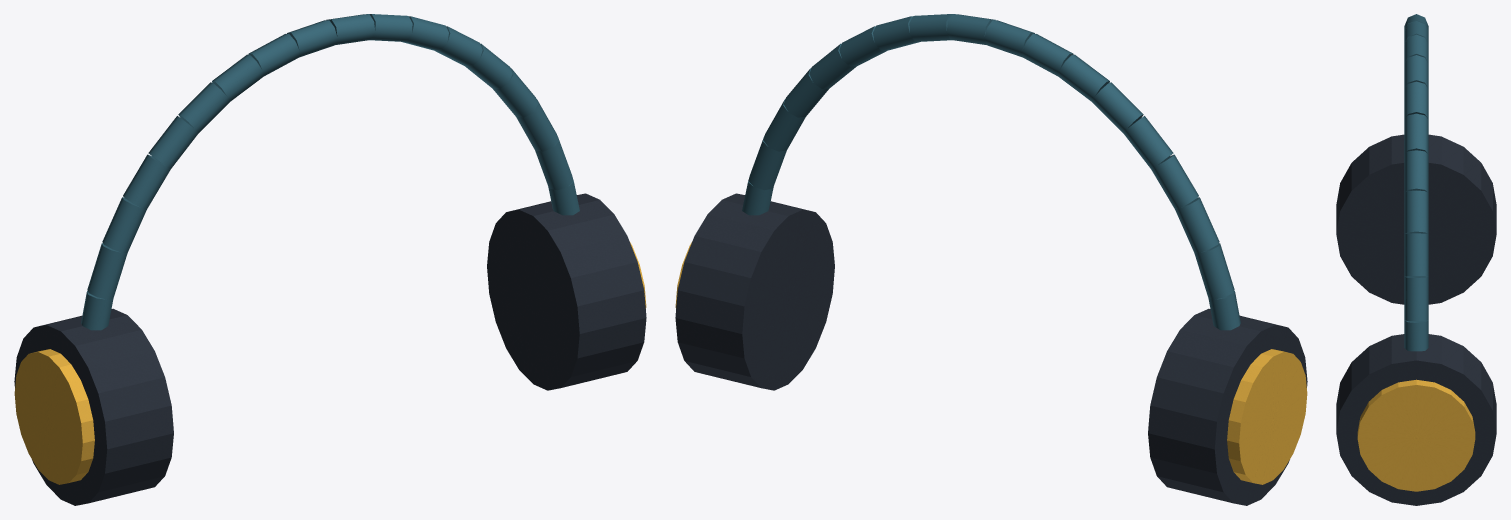
The model's file is reference_headphones.gltf.
3 views of the same model, side by side, from view 1: azimuth 30°, elevation 25°; view 2: azimuth 150°, elevation 25°; view 3: azimuth 270°, elevation 25° (orthographic). The views are drawn at different scales.
Visible parts, largest first — view 1: Headphones; view 2: Headphones; view 3: Headphones.
Boxes of the visible parts, left/top/right/bottom form: Headphones: left=14, top=14, right=646, bottom=505; Headphones: left=675, top=14, right=1307, bottom=505; Headphones: left=1336, top=14, right=1496, bottom=505.
Bounding box in the file's own units: 0.582 × 0.4084 × 0.166.
Materials: 3 (3 with a texture image).
